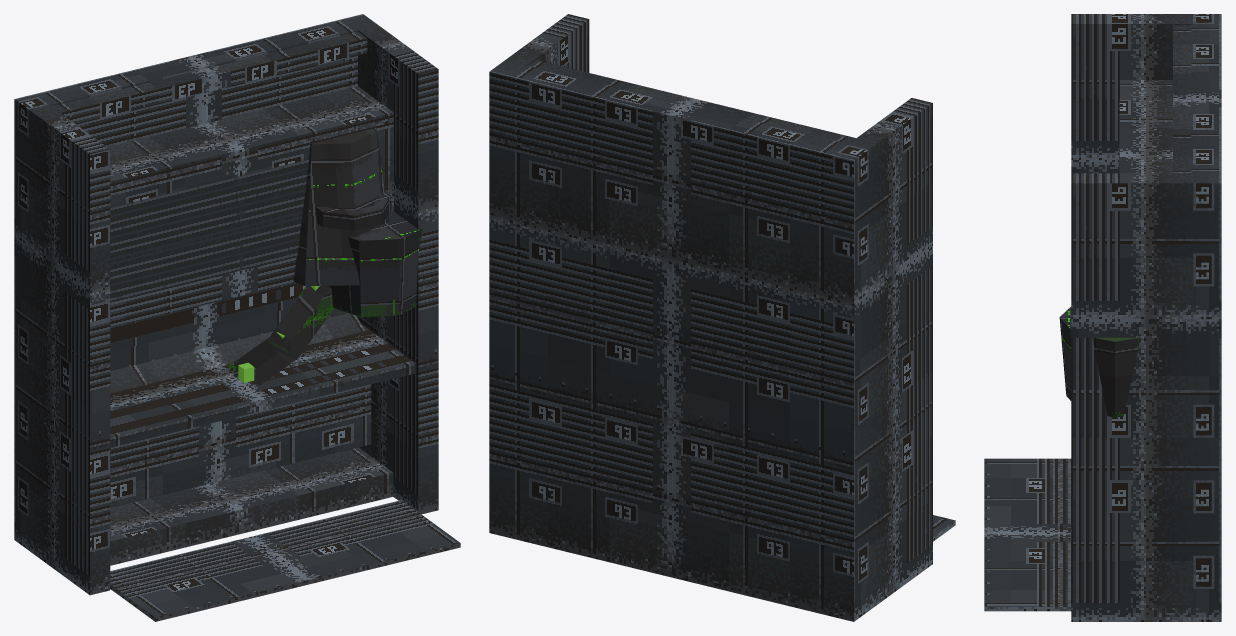
Rendered from eps_state_thinking.glb.
3 renders of one model, left to right at view 1: azimuth 30°, elevation 25°; view 2: azimuth 150°, elevation 25°; view 3: azimuth 270°, elevation 25°, orthographic. The views are drawn at different scales.
Visible parts, largest first — view 1: eps_state_thinking; view 2: eps_state_thinking; view 3: eps_state_thinking.
Boxes of the visible parts, x1,y1,x2,y2 form: eps_state_thinking: [14, 14, 460, 621]; eps_state_thinking: [489, 14, 955, 621]; eps_state_thinking: [984, 14, 1221, 621].
Bounding box in the file's own units: 2.46 × 2.9 × 1.42.
5 materials, 4 textured.
